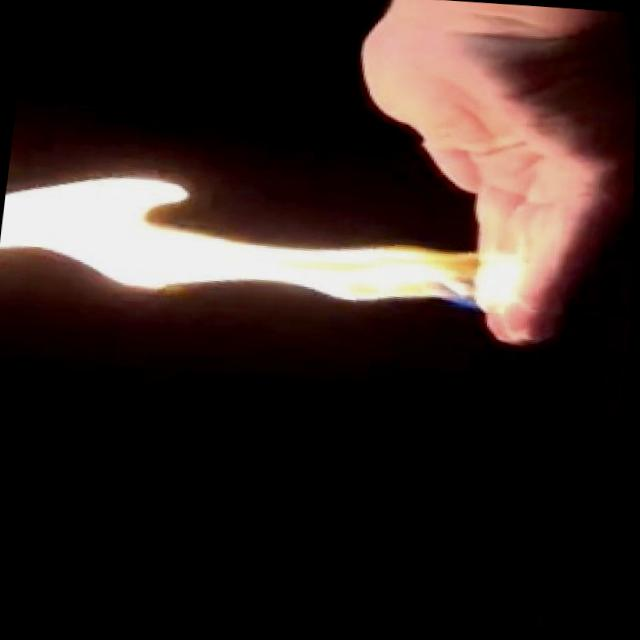helmet: (0, 140, 515, 338)
